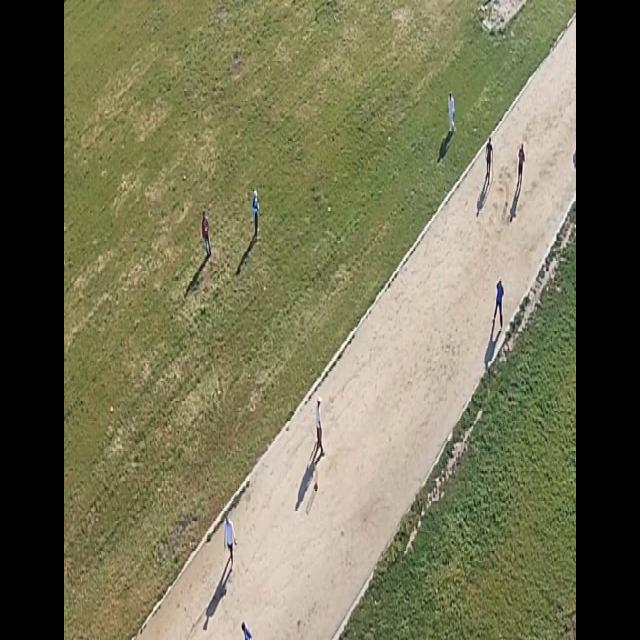humans: (314, 394, 327, 458), (223, 509, 238, 563), (490, 275, 505, 328), (199, 207, 213, 261), (516, 136, 528, 192), (249, 184, 261, 238), (446, 86, 457, 139), (238, 613, 254, 640), (486, 132, 494, 183)
